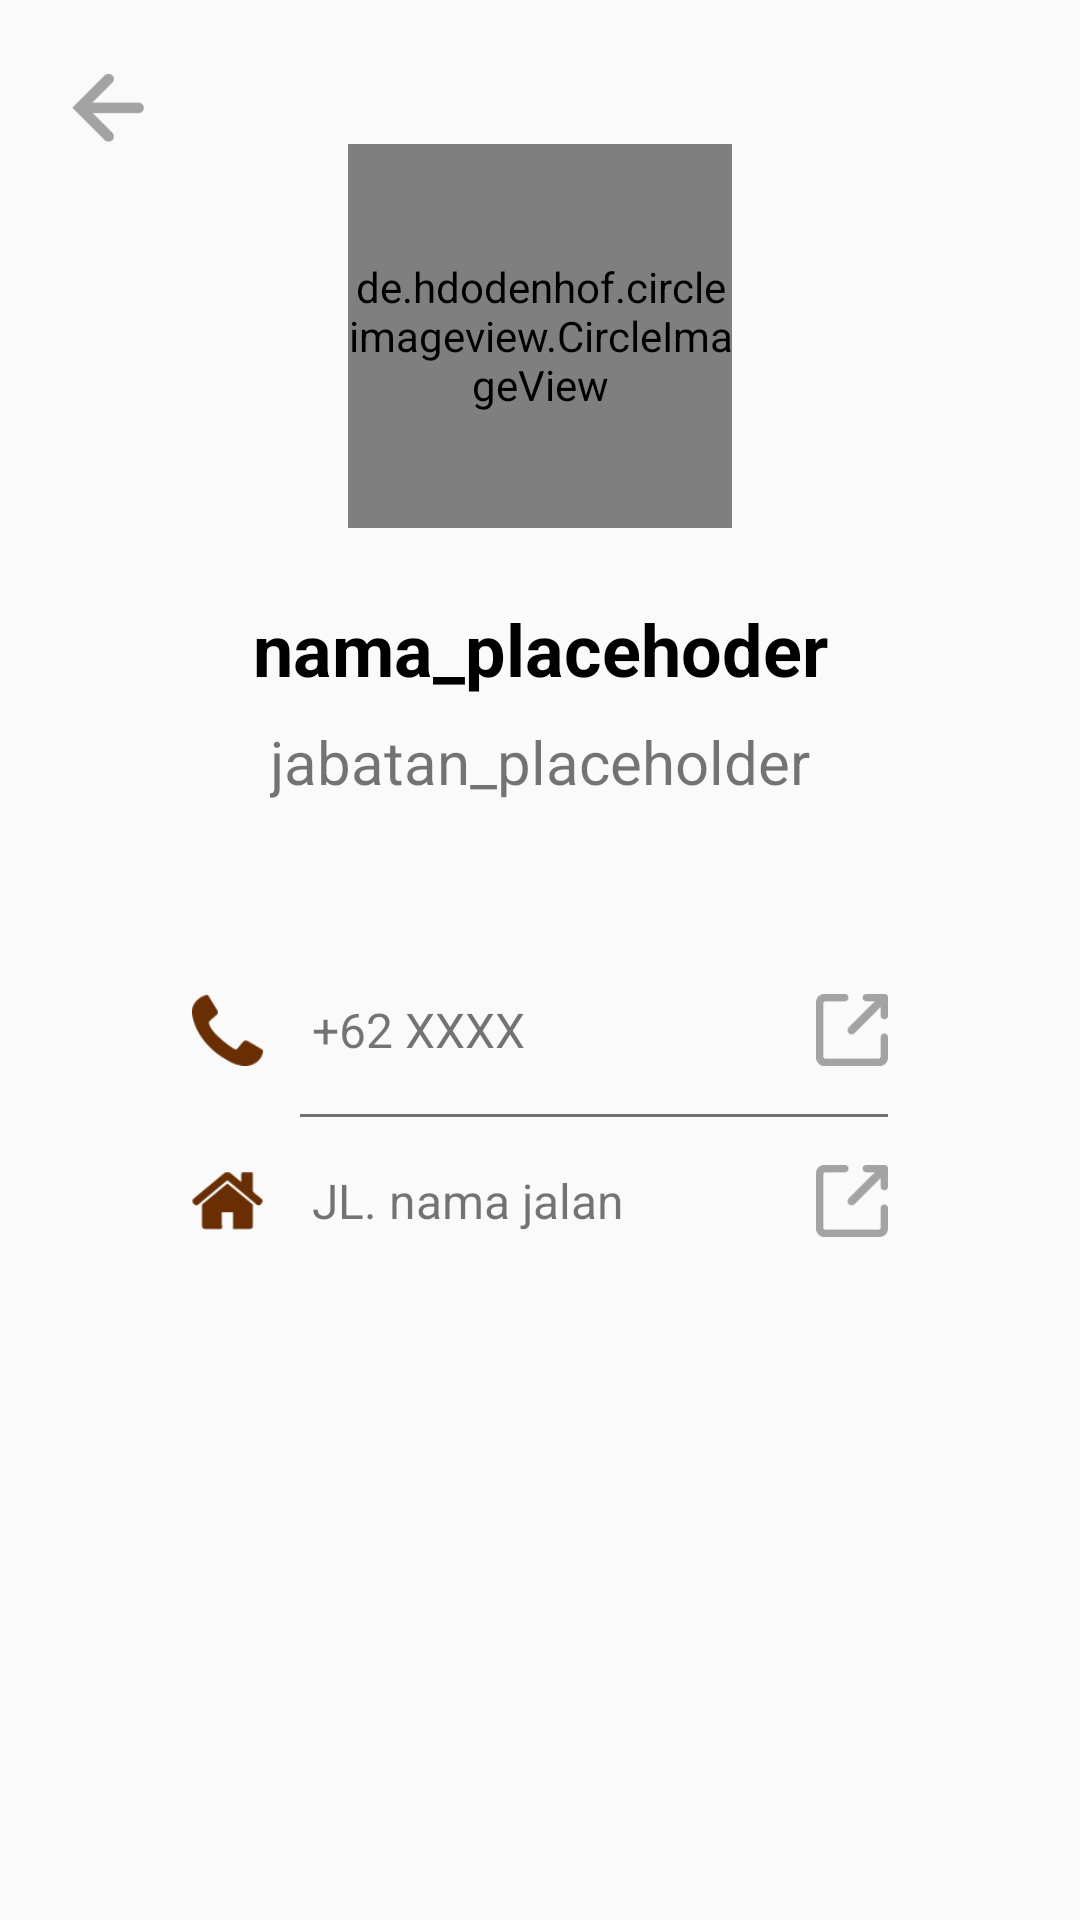

Icons on this 1080 × 1920 Android screen, each with the point to tap as (x,y):
back: (108,108)
kontak alamat: (227,1201)
kontak telepon: (228,1030)
